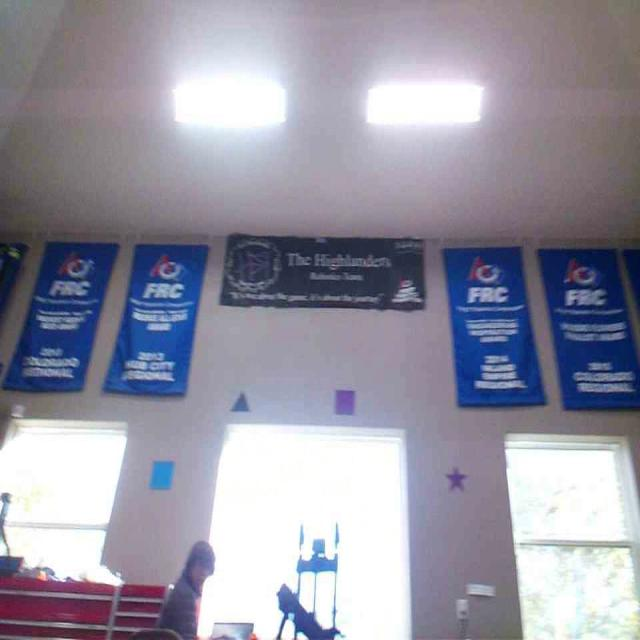square_blue: (147, 460, 175, 488)
square_purple: (446, 467, 468, 492), (334, 389, 355, 415)
triangle_black: (230, 391, 251, 412)
